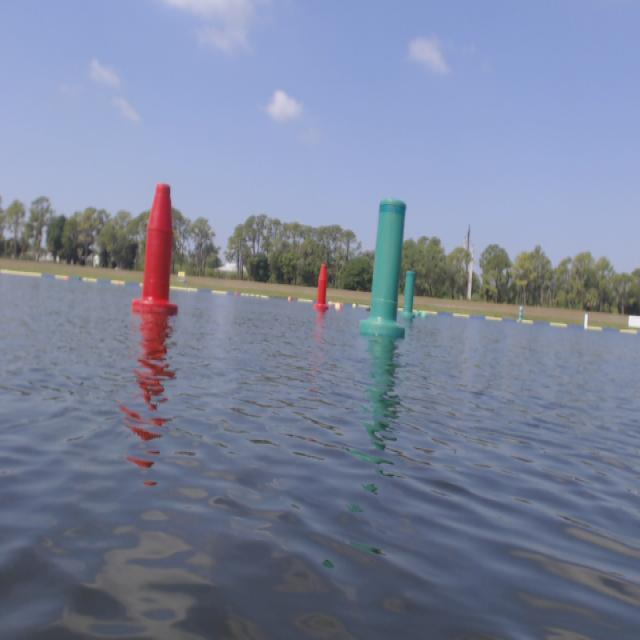Green_Buoy: (374, 199, 400, 337), (399, 275, 418, 324)
Red_Buoy: (147, 184, 170, 320), (313, 263, 335, 313)
